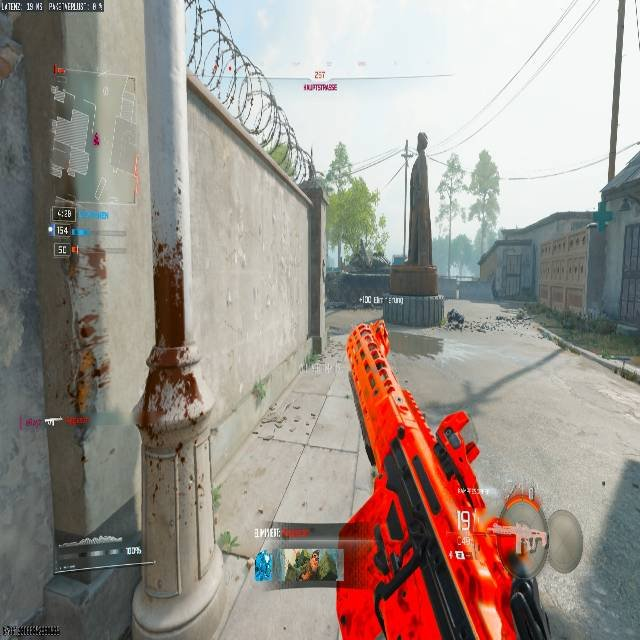player: (255, 550, 270, 579), (447, 308, 465, 330)
